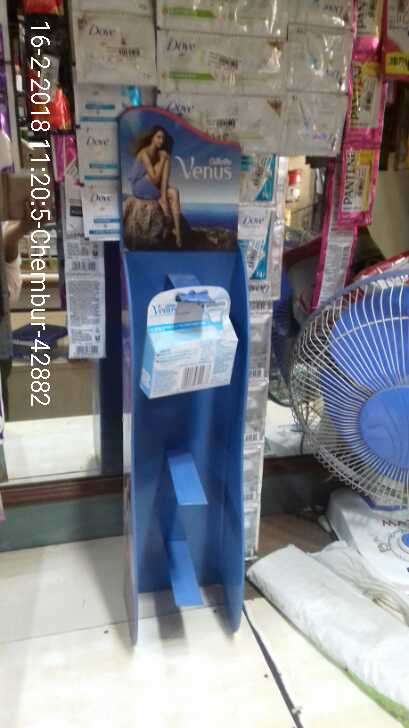reject: (162, 393, 226, 477)
